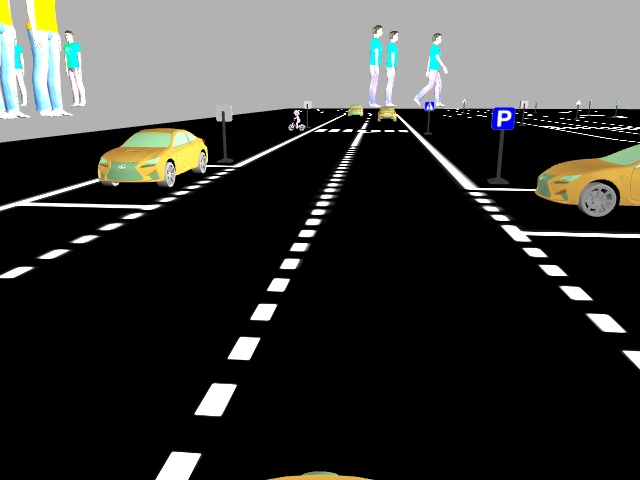Parking: (490, 104, 516, 130)
